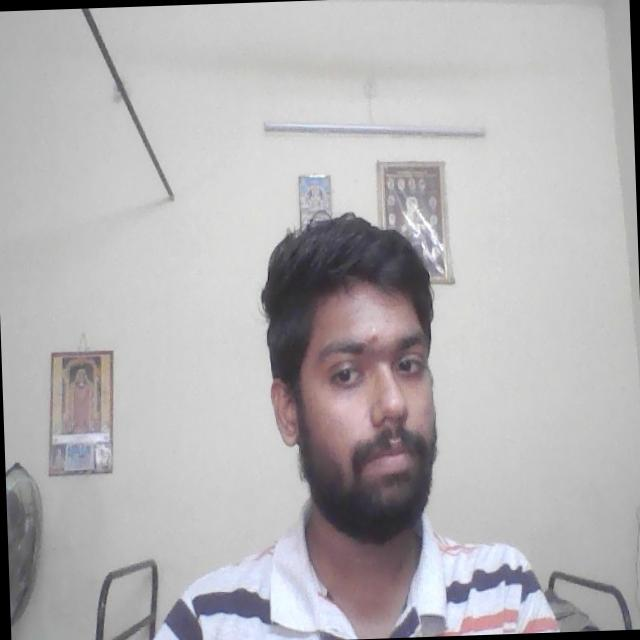Focused: (272, 314, 443, 501)
